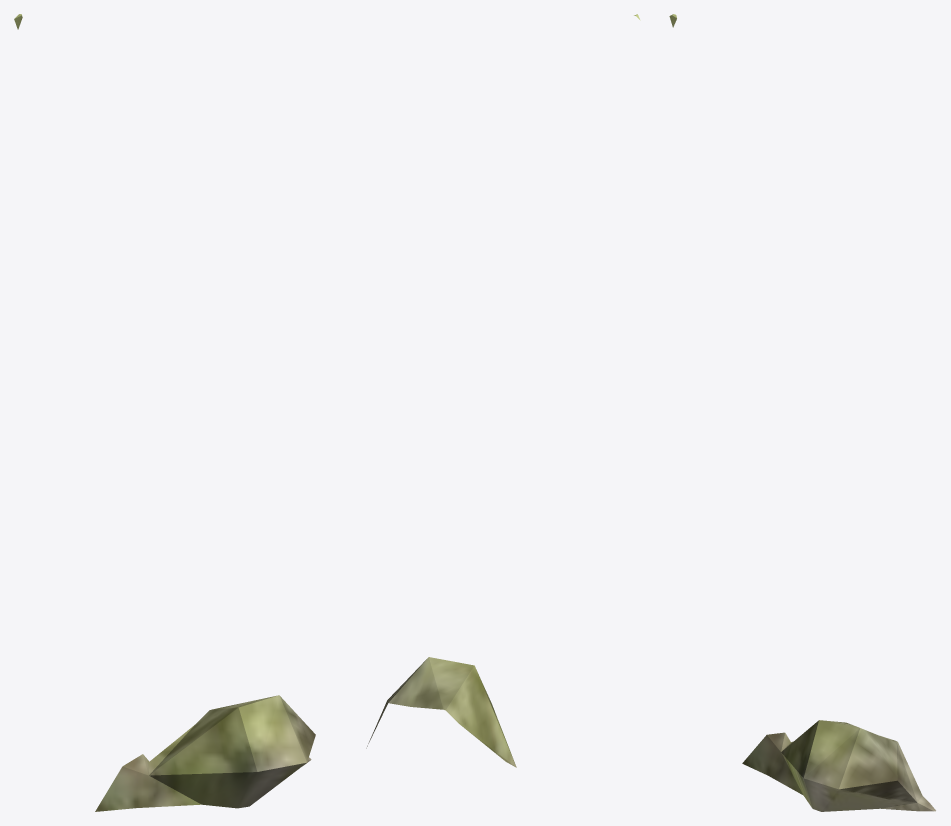
The picture shows the model from 3 angles, left to right: view 1: azimuth 30°, elevation 25°; view 2: azimuth 150°, elevation 25°; view 3: azimuth 330°, elevation 25°; orthographic projection. The views are drawn at different scales.
Bounding box in the file's own units: 1.07 × 2.81 × 0.3258.
Materials: 1 (1 with a texture image).
